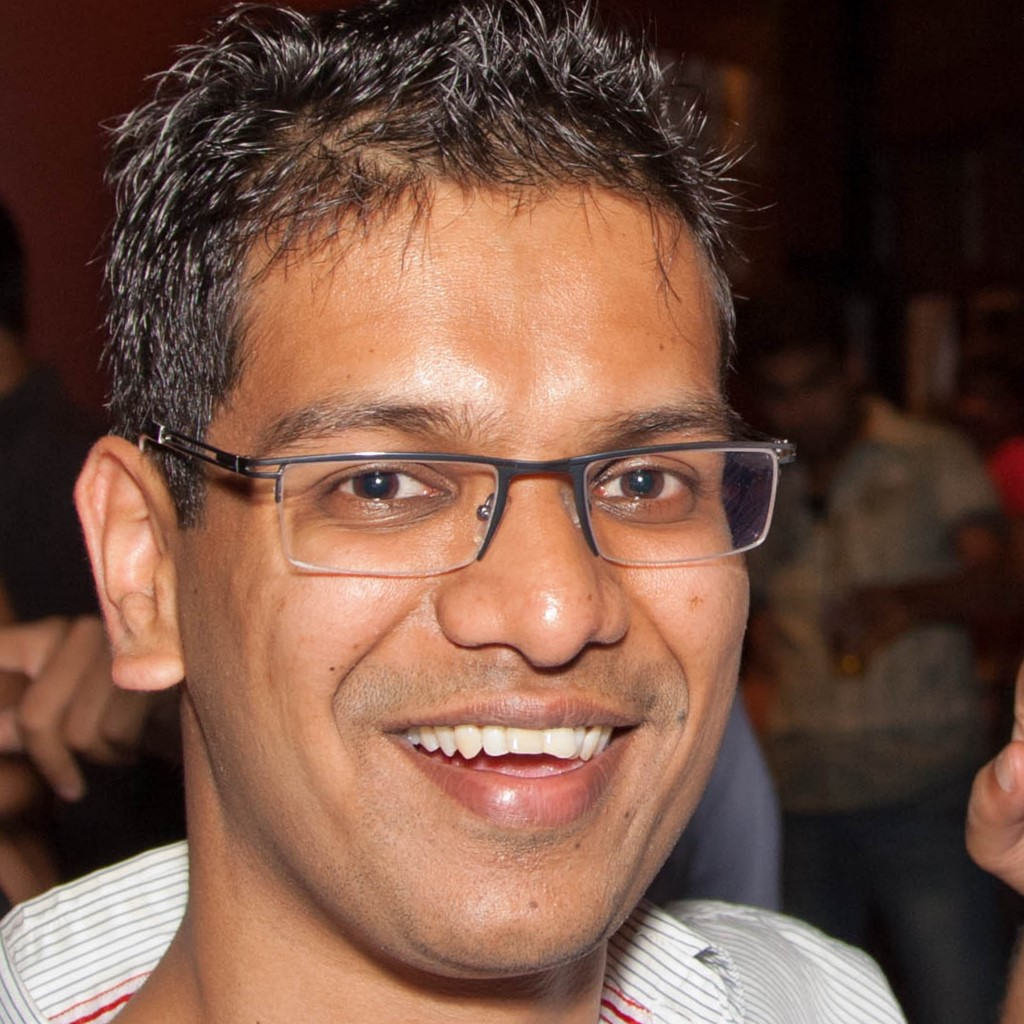sin_mascara: (137, 55, 735, 982)
